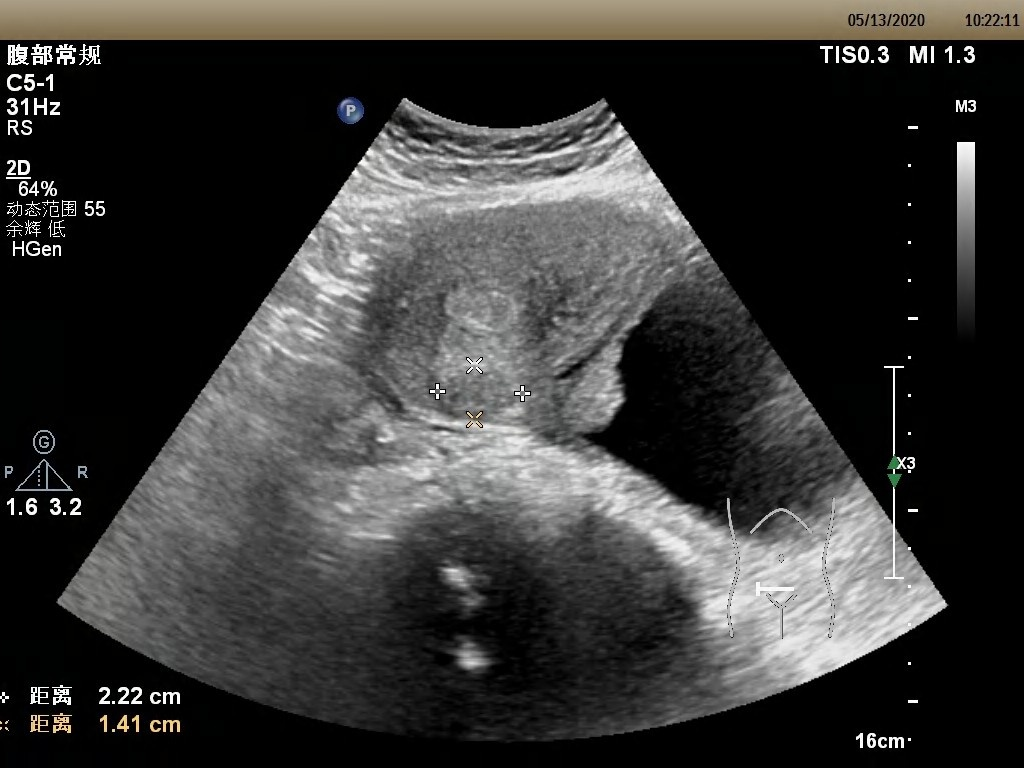肌瘤: (438, 366, 524, 418)
